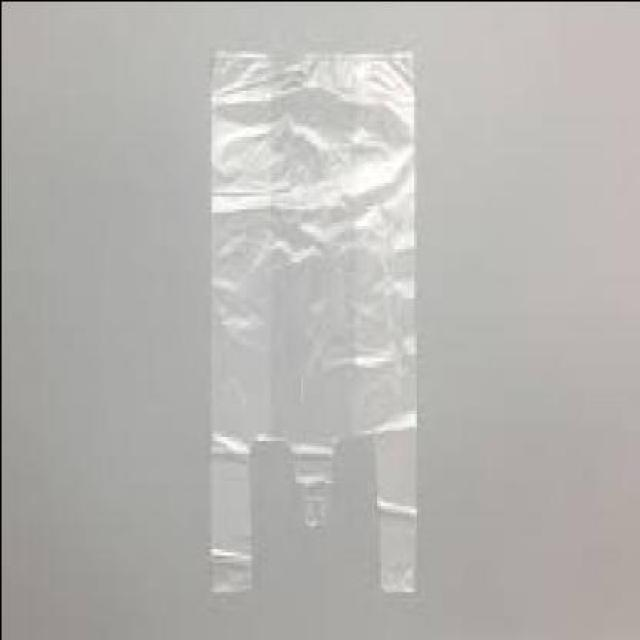PLASTIC: (210, 49, 422, 600)
